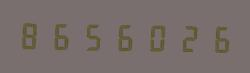eight: (17, 18, 46, 51)
five: (77, 19, 106, 52)
six: (47, 18, 76, 52), (107, 19, 136, 53), (197, 21, 226, 54)
two: (167, 20, 196, 54)
zero: (137, 20, 166, 53)
